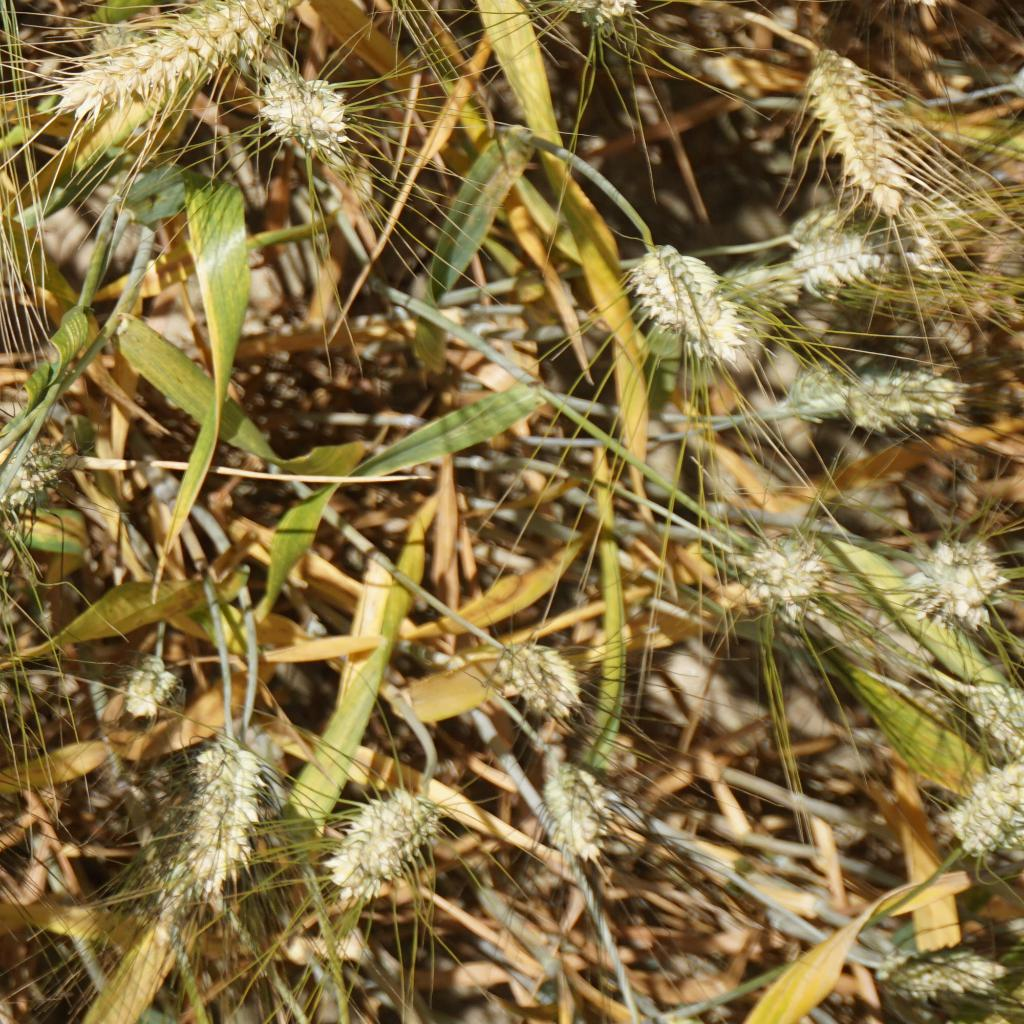0-0: (52, 0, 273, 117), (805, 45, 913, 209), (332, 781, 457, 905), (739, 529, 867, 640), (528, 751, 627, 867), (834, 358, 969, 429), (191, 729, 251, 882), (265, 64, 359, 156), (673, 260, 753, 367), (896, 934, 1007, 1009), (910, 534, 1006, 617), (788, 355, 876, 437), (950, 758, 1024, 850), (491, 638, 573, 716), (894, 195, 975, 268), (629, 243, 694, 329), (780, 246, 891, 296), (118, 647, 180, 730), (9, 427, 81, 495), (959, 670, 1024, 744), (782, 200, 855, 257), (545, 0, 647, 37), (0, 639, 18, 714)
